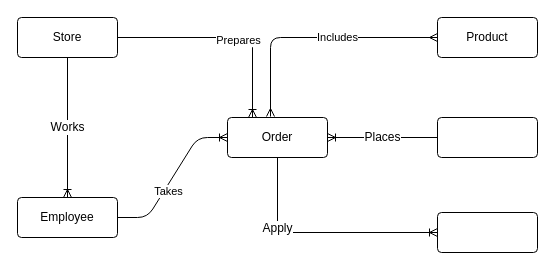
The diagram is 555 pixels wide and 270 high, and some of its shapes have lost their labels. Each missing label, with the centre of its shape:
Coupon: (x=487, y=232)
Customer: (x=487, y=137)
